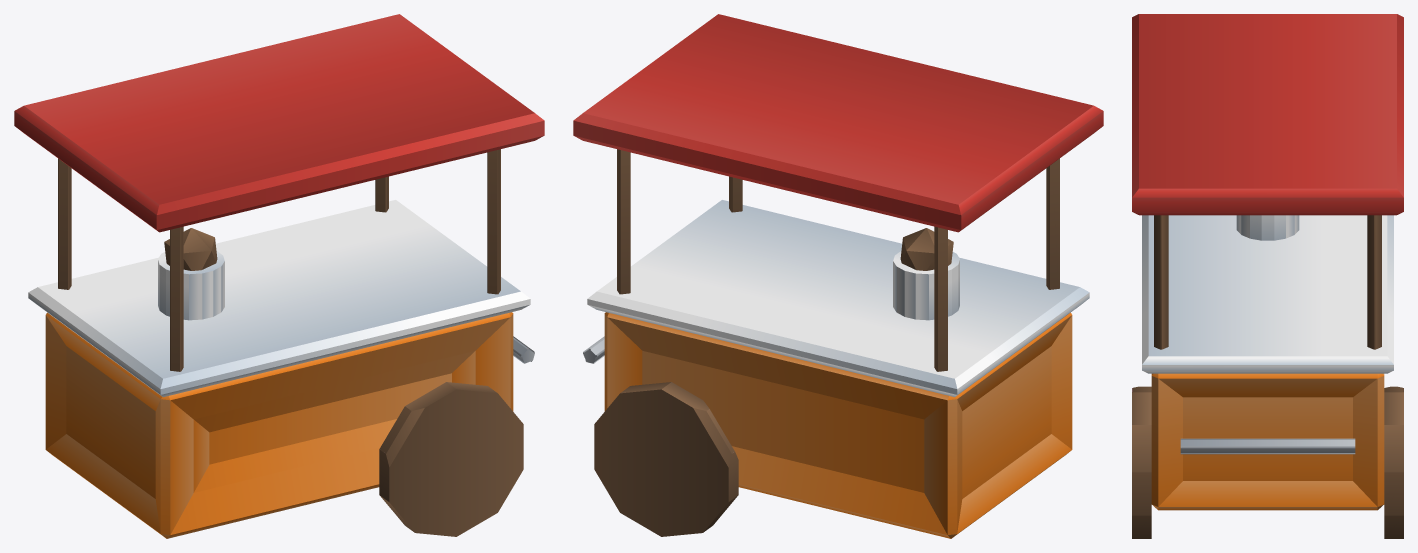
Rendered from dt_cocoa_cart.fbx.
3 renders of one model, left to right at view 1: azimuth 30°, elevation 25°; view 2: azimuth 150°, elevation 25°; view 3: azimuth 270°, elevation 25°, orthographic. The views are drawn at different scales.
Visible parts, largest first — view 1: dt_cocoa_cart; view 2: dt_cocoa_cart; view 3: dt_cocoa_cart.
Boxes of the visible parts, left/top/right/bottom form: dt_cocoa_cart: left=14, top=14, right=544, bottom=538; dt_cocoa_cart: left=573, top=14, right=1103, bottom=538; dt_cocoa_cart: left=1132, top=14, right=1403, bottom=538.
Bounding box in the file's own units: 650 × 617 × 397.
